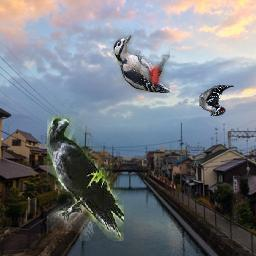Crow: (48, 115, 125, 241)
Woodpecker: (114, 35, 171, 93), (200, 86, 235, 117)
